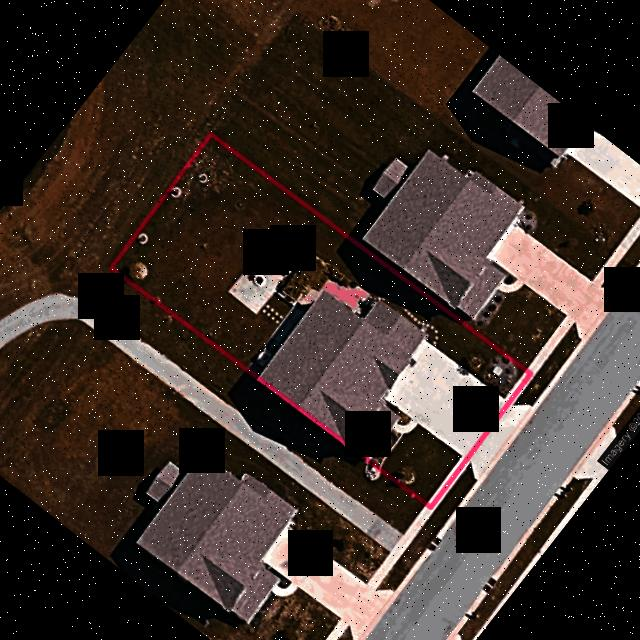Driveway: (384, 340, 508, 457)
Extra Driveway: (470, 404, 532, 479)
Extra Lawn: (434, 463, 478, 521), (514, 374, 549, 406)
Extra Sidewalk: (432, 459, 471, 511), (511, 373, 536, 404)
House: (261, 290, 427, 457)
Other: (229, 256, 284, 314), (298, 279, 374, 316), (482, 354, 520, 395), (130, 261, 149, 279), (366, 464, 381, 480), (137, 232, 149, 244), (171, 186, 183, 197), (198, 173, 209, 183)
Sidewalk: (253, 301, 314, 368), (428, 456, 465, 503), (403, 307, 440, 347), (505, 371, 528, 400), (393, 419, 418, 435)
